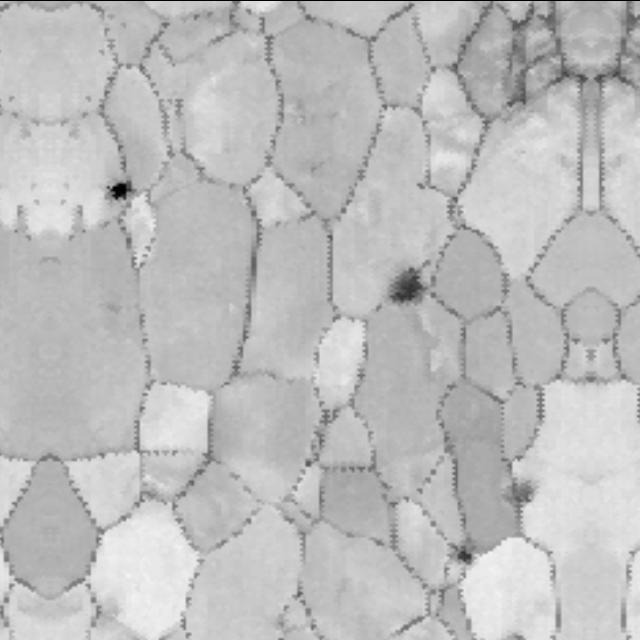good_void: (373, 264, 441, 333), (504, 26, 531, 104), (449, 528, 488, 569), (98, 289, 132, 328), (500, 481, 537, 513), (535, 2, 564, 38), (106, 169, 130, 206), (618, 2, 640, 38)
